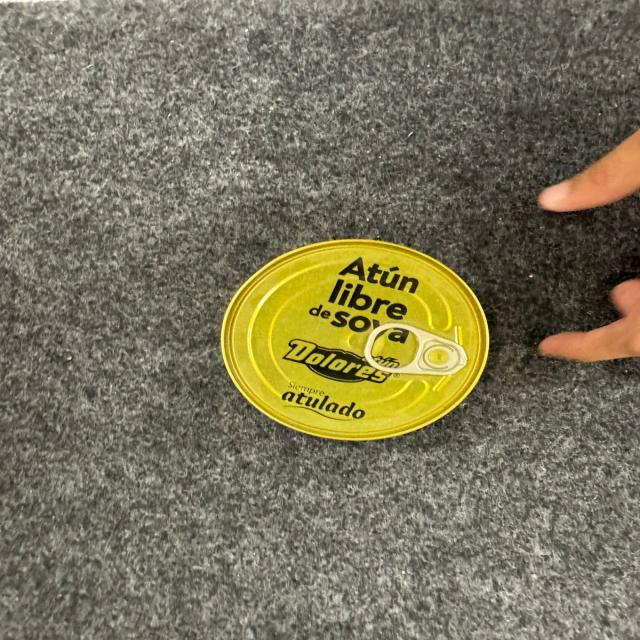ATUN DOLORES EN ACEITE 130GRS: (219, 239, 492, 440)
